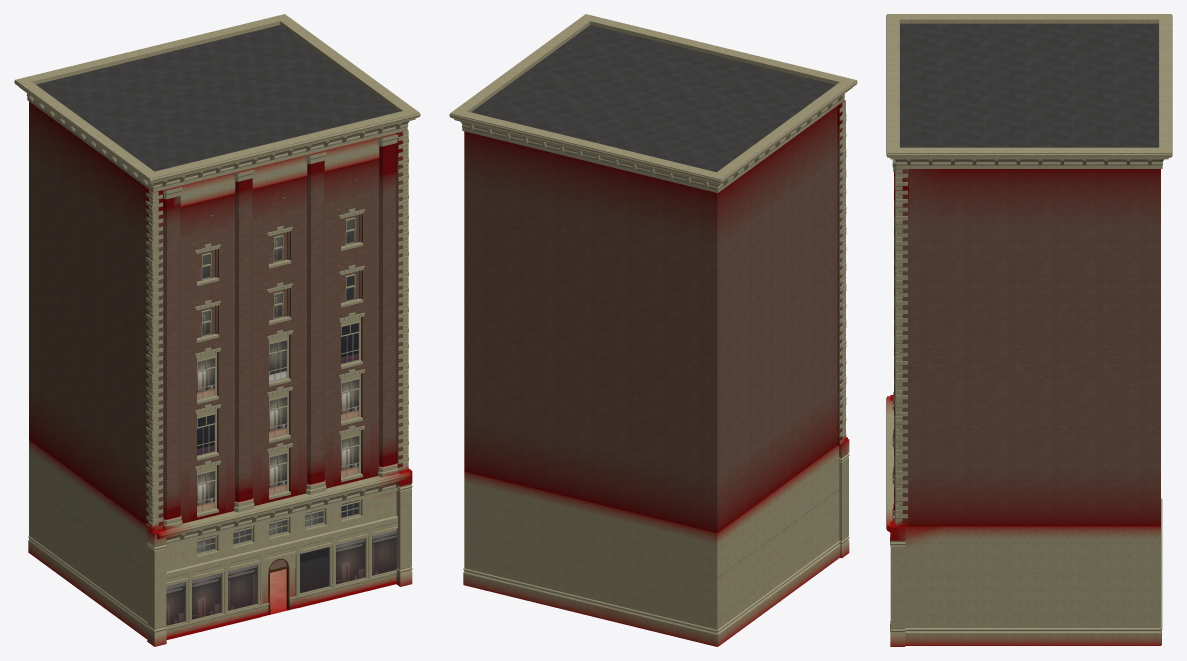
Rendered from la-building-medium.glb.
The picture shows the model from 3 angles, left to right: view 1: azimuth 30°, elevation 25°; view 2: azimuth 150°, elevation 25°; view 3: azimuth 270°, elevation 25°; orthographic projection. The views are drawn at different scales.
Parts seen in each view (by area): view 1: Building_Medium_2.001; view 2: Building_Medium_2.001; view 3: Building_Medium_2.001.
Boxes of the visible parts, left/top/right/bottom form: Building_Medium_2.001: left=14, top=14, right=420, bottom=646; Building_Medium_2.001: left=449, top=14, right=857, bottom=646; Building_Medium_2.001: left=886, top=14, right=1172, bottom=646.
Size of the model in its own units: 15.06 by 25.01 by 13.06.
8 materials, 7 textured.
